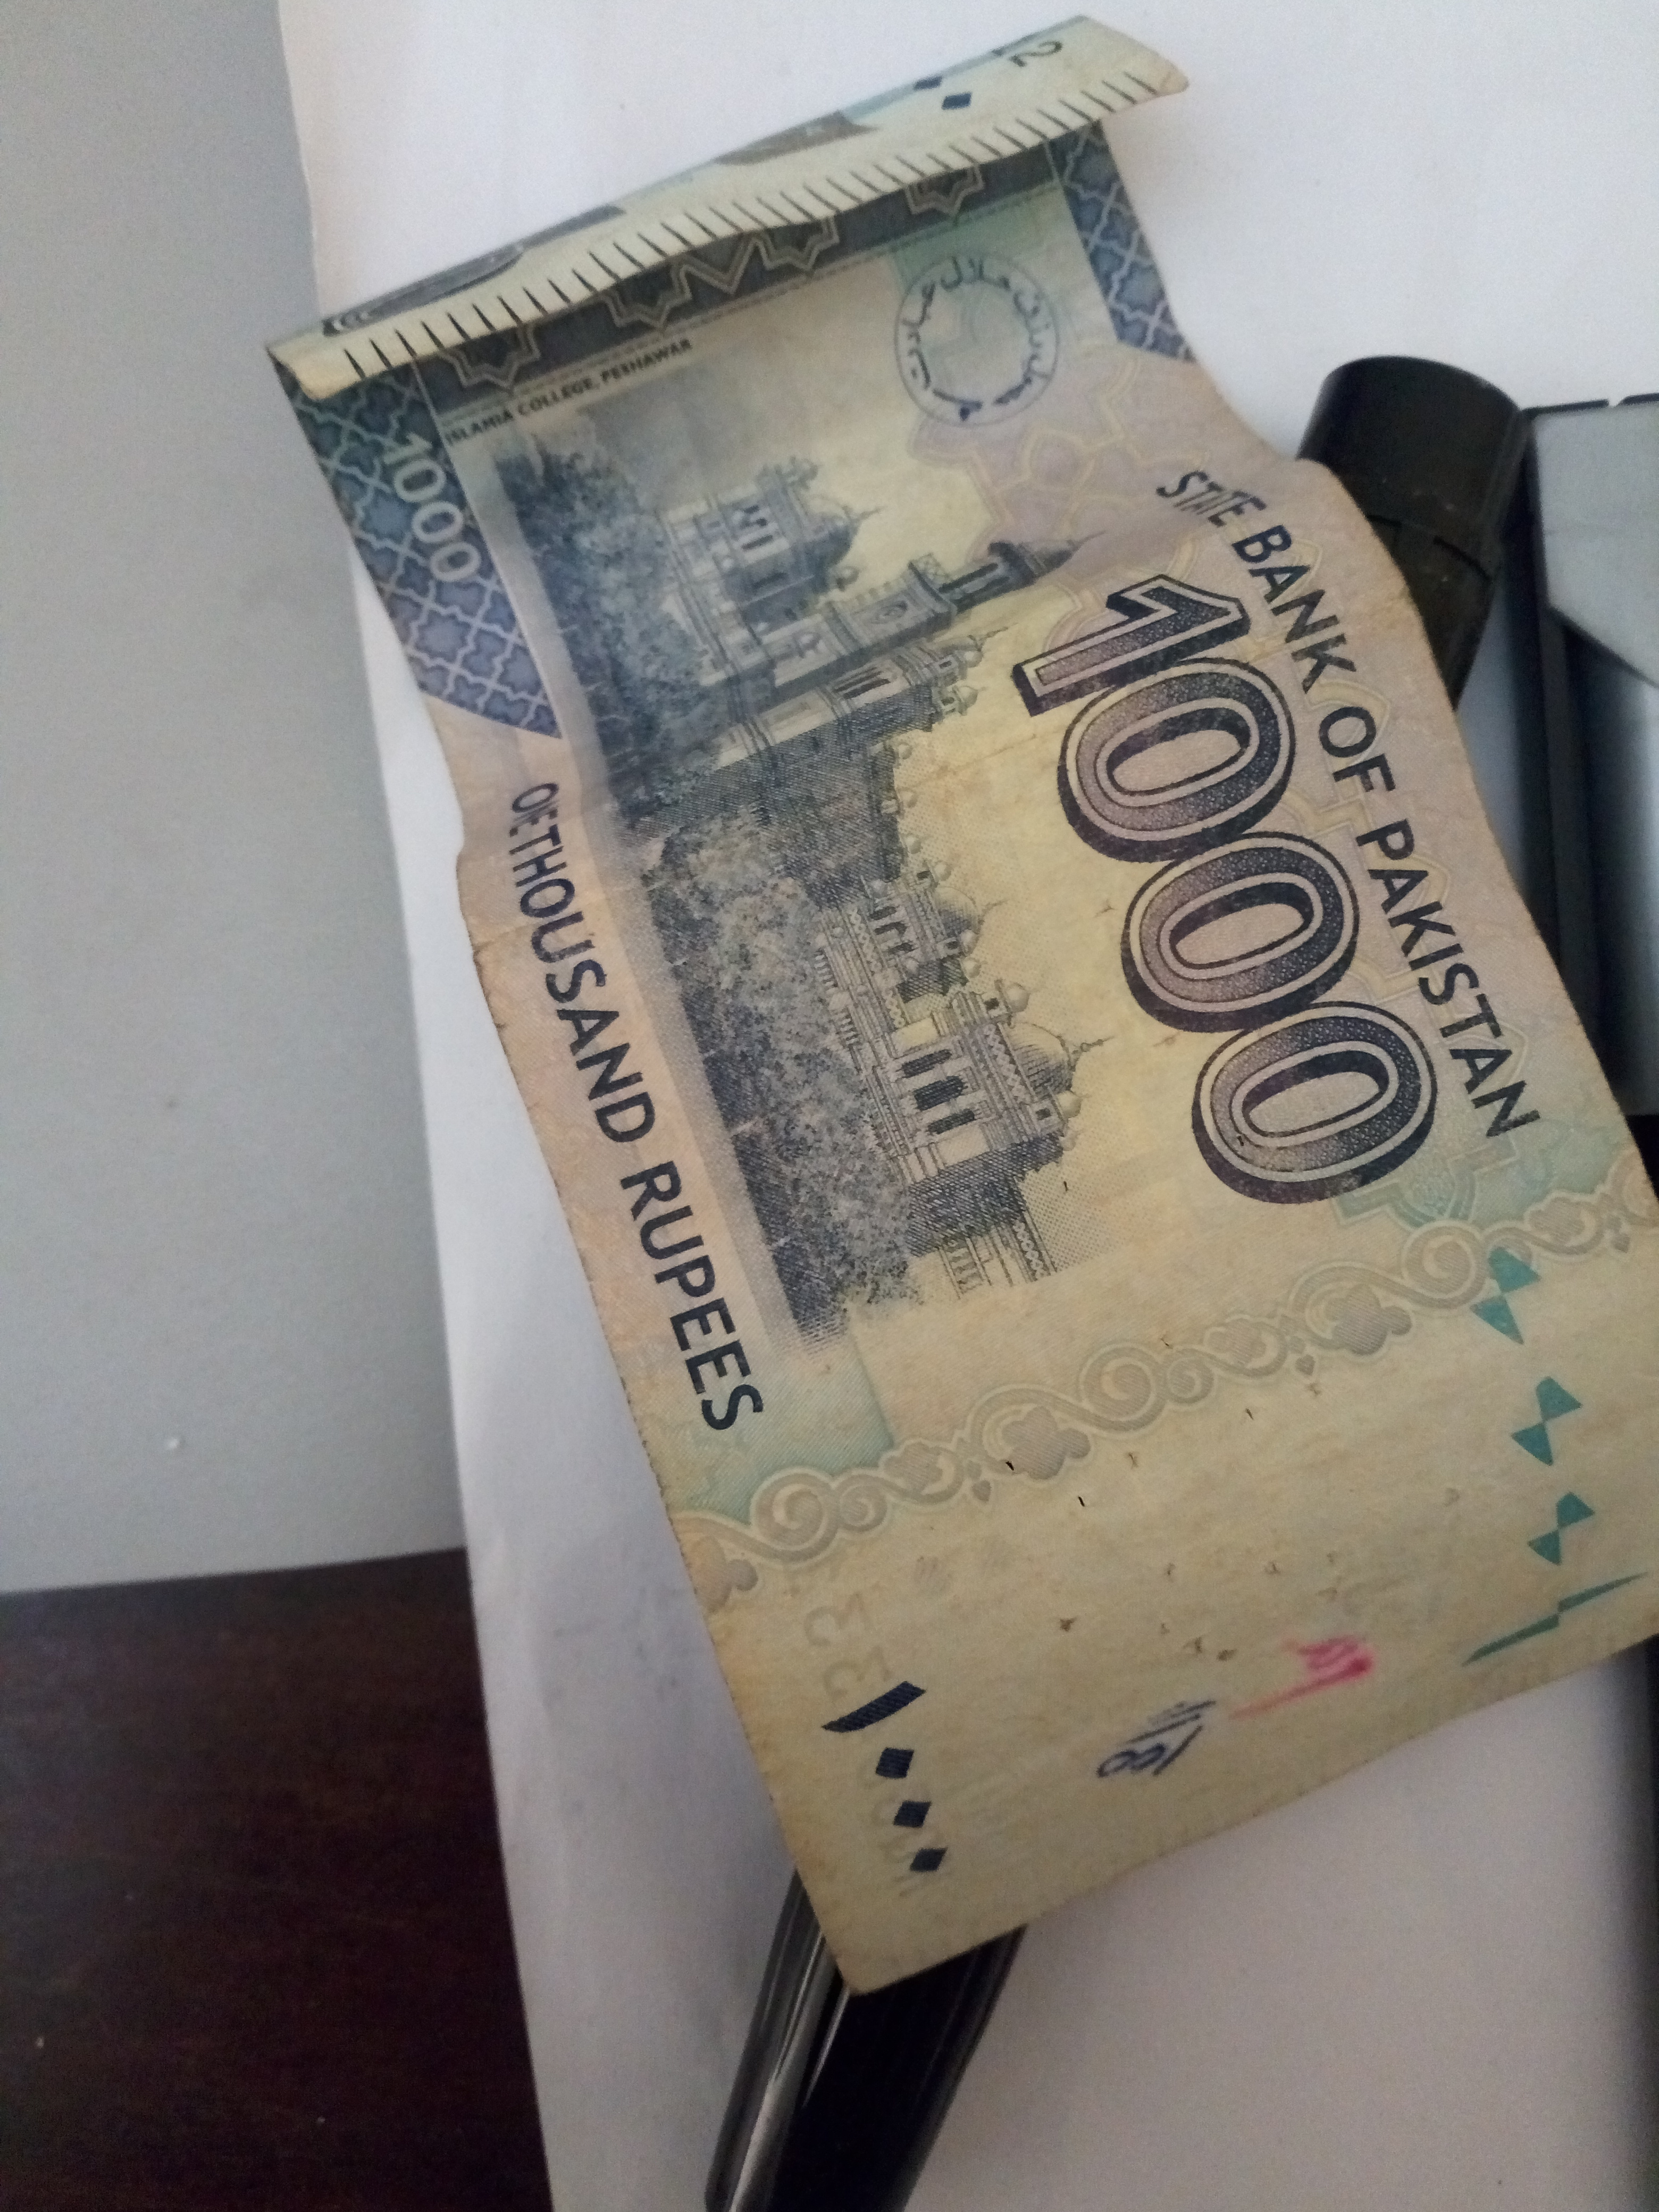1000 rupee: (166, 28, 1659, 1991)
